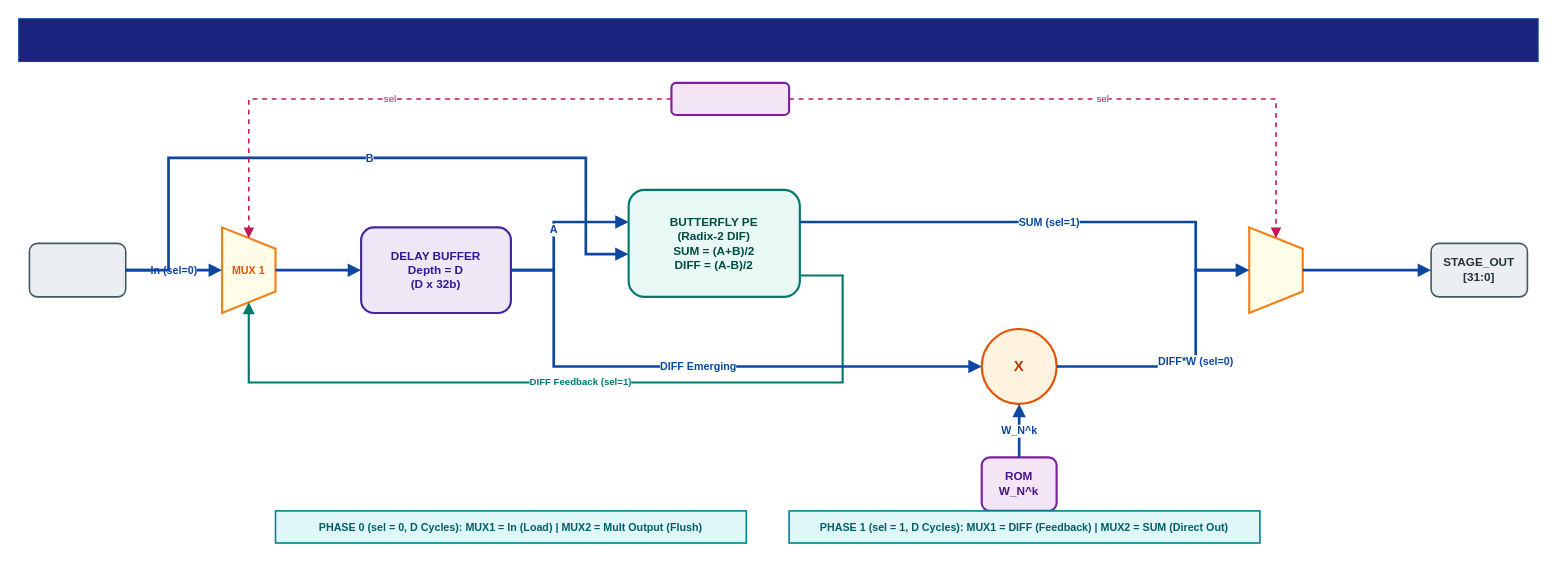
The diagram is 1557 pixels wide and 563 high, and some of its shapes have lost their labels. Here are the shapes that lost their labels. From the top down, the centre of each, then its label:
At (778,40): "Canonical R2SDF Stage Schematic (Parameter: Delay D in {16, 8, 4, 2, 1})".
At (730,98): "SEL = cnt[i]".
At (77,269): "STAGE_IN [31:0]".
At (1275,270): "MUX 2".
